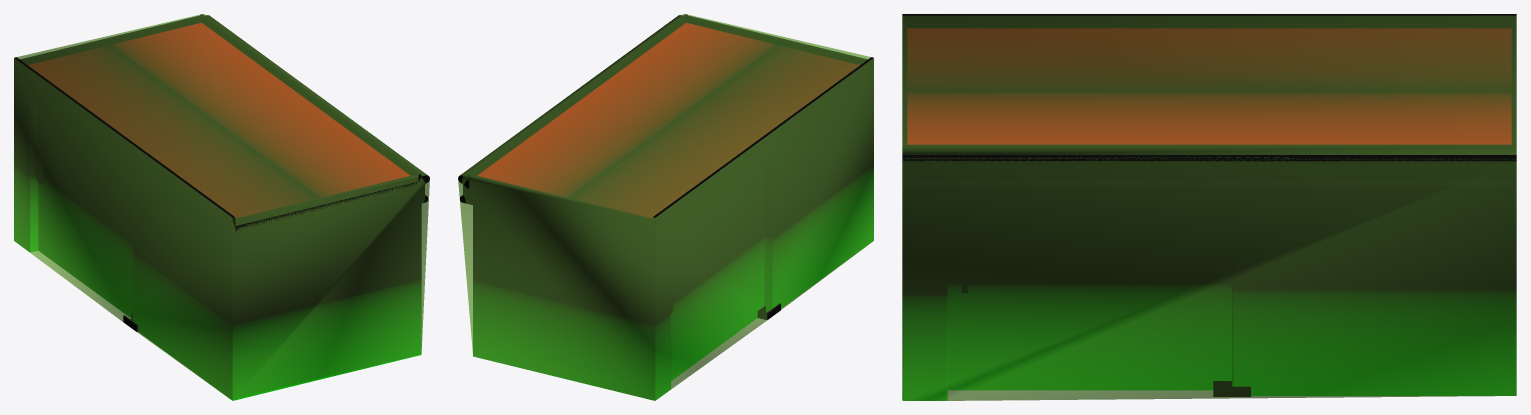
Rendered from M_md_Stall2_2m_01.fbx.
The picture shows the model from 3 angles, left to right: view 1: azimuth 30°, elevation 25°; view 2: azimuth 150°, elevation 25°; view 3: azimuth 270°, elevation 25°; orthographic projection. The views are drawn at different scales.
Parts seen in each view (by area): view 1: M_md_Stall2_2m_01_col_01, M_md_Stall2_2m_01_LOD0; view 2: M_md_Stall2_2m_01_col_01, M_md_Stall2_2m_01_LOD0; view 3: M_md_Stall2_2m_01_LOD0, M_md_Stall2_2m_01_col_01.
Part boxes in pixels (x1,y1,x2,y2): M_md_Stall2_2m_01_col_01: (14, 14, 429, 400); M_md_Stall2_2m_01_LOD0: (14, 14, 429, 400); M_md_Stall2_2m_01_col_01: (458, 14, 873, 400); M_md_Stall2_2m_01_LOD0: (458, 14, 873, 400); M_md_Stall2_2m_01_LOD0: (902, 14, 1516, 400); M_md_Stall2_2m_01_col_01: (902, 15, 1516, 400).
Size of what is drawn, in the model's own units: 105 by 92.36 by 200.
